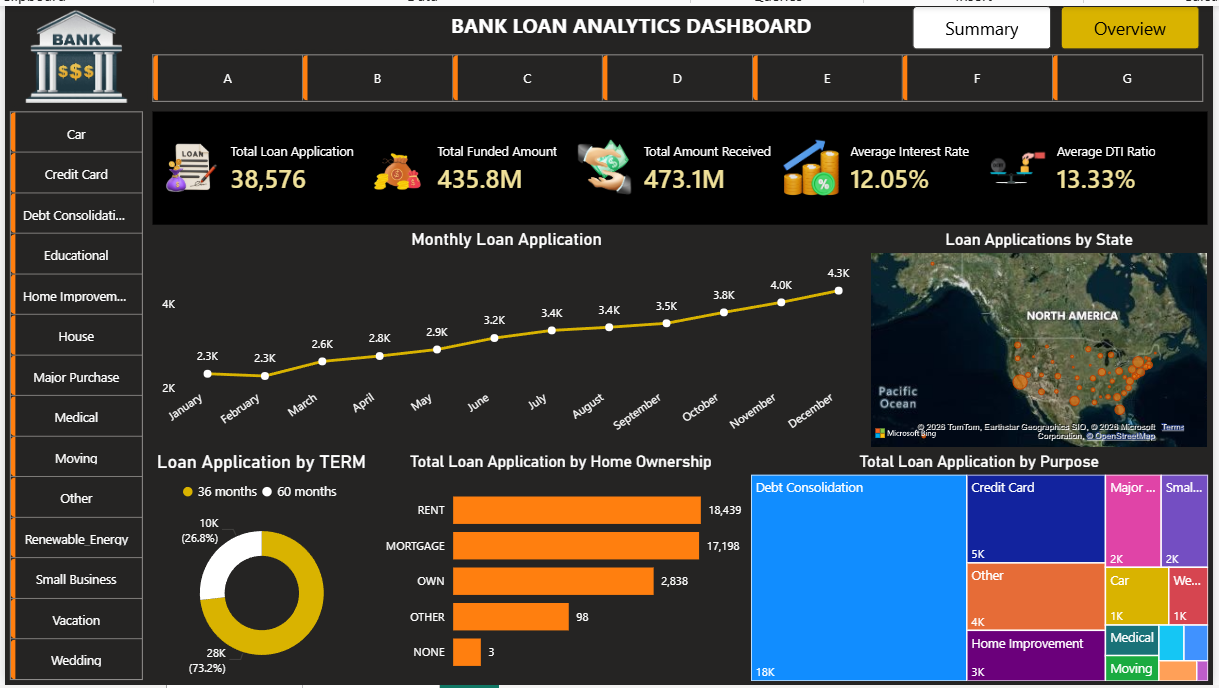

The dashboard page shown, as its layout file describes it:
{"tool":"powerbi","page":{"name":"Overview","canvas":[1280,720],"ordinal":1},"visuals":[{"type":"cardVisual","fields":{"Data":["financial_loan.Total Loan Application","financial_loan.Total Funded Amount","financial_loan.Total Amount Received","financial_loan.Average Interest Rate","financial_loan.Average DTI Rate"]},"box":[151.1,106.6,1129.3,130.4],"z":0},{"type":"image","box":[0,0,151.1,106.6],"z":1000},{"type":"advancedSlicerVisual","fields":{"Values":["financial_loan.PURPOSE"]},"box":[0,106.6,151.1,614],"z":2000},{"type":"advancedSlicerVisual","fields":{"Values":["financial_loan.GRADE"]},"box":[151.1,46.1,1129.3,60.4],"z":3000},{"type":"textbox","box":[276.8,0,774.6,46.1],"z":4000},{"type":"pageNavigator","box":[962.3,0,305.4,46.1],"z":5000},{"type":"lineChart","title":"Monthly Loan Application ","fields":{"Category":["financial_loan.ISSUE_DATE.Variation.Date Hierarchy.Month"],"Y":["financial_loan.Total Loan Application"]},"box":[151.1,237,761.9,235.4],"z":6000},{"type":"donutChart","title":"Loan Application by TERM","fields":{"Category":["financial_loan.TERM"],"Y":["financial_loan.Total Loan Application"]},"box":[151.1,472.4,241.8,248.1],"z":7000},{"type":"clusteredBarChart","title":"Total Loan Application by Home Ownership","fields":{"Category":["financial_loan.HOME_OWNERSHIP"],"Y":["financial_loan.Total Loan Application"]},"box":[392.9,472.4,392.9,248.1],"z":8000},{"type":"treemap","title":"Total Loan Application by Purpose","fields":{"Group":["financial_loan.PURPOSE"],"Values":["financial_loan.Total Loan Application"]},"box":[785.8,472.4,494.7,248.1],"z":9000},{"type":"map","title":"Loan Applications by State","fields":{"Category":["financial_loan.ADDRESS_STATE"],"Size":["financial_loan.Total Loan Application"]},"box":[913,237,367.4,235.4],"z":10000}]}

Visuals, with their boxes on the page's 1280x720 design canvas (x1, y1, x2, y2). These are canvas units, not pixel positions in the 1219x688 screenshot, which may show the page scaled, cropped or inside an application window:
cardVisual - financial_loan.Total Loan Application x financial_loan.Total Funded Amount: bbox=(151, 107, 1280, 237)
image: bbox=(0, 0, 151, 107)
advancedSlicerVisual - financial_loan.PURPOSE: bbox=(0, 107, 151, 721)
advancedSlicerVisual - financial_loan.GRADE: bbox=(151, 46, 1280, 106)
textbox: bbox=(277, 0, 1051, 46)
pageNavigator: bbox=(962, 0, 1268, 46)
"Monthly Loan Application " lineChart: bbox=(151, 237, 913, 472)
"Loan Application by TERM" donutChart: bbox=(151, 472, 393, 720)
"Total Loan Application by Home Ownership" clusteredBarChart: bbox=(393, 472, 786, 720)
"Total Loan Application by Purpose" treemap: bbox=(786, 472, 1280, 720)
"Loan Applications by State" map: bbox=(913, 237, 1280, 472)
